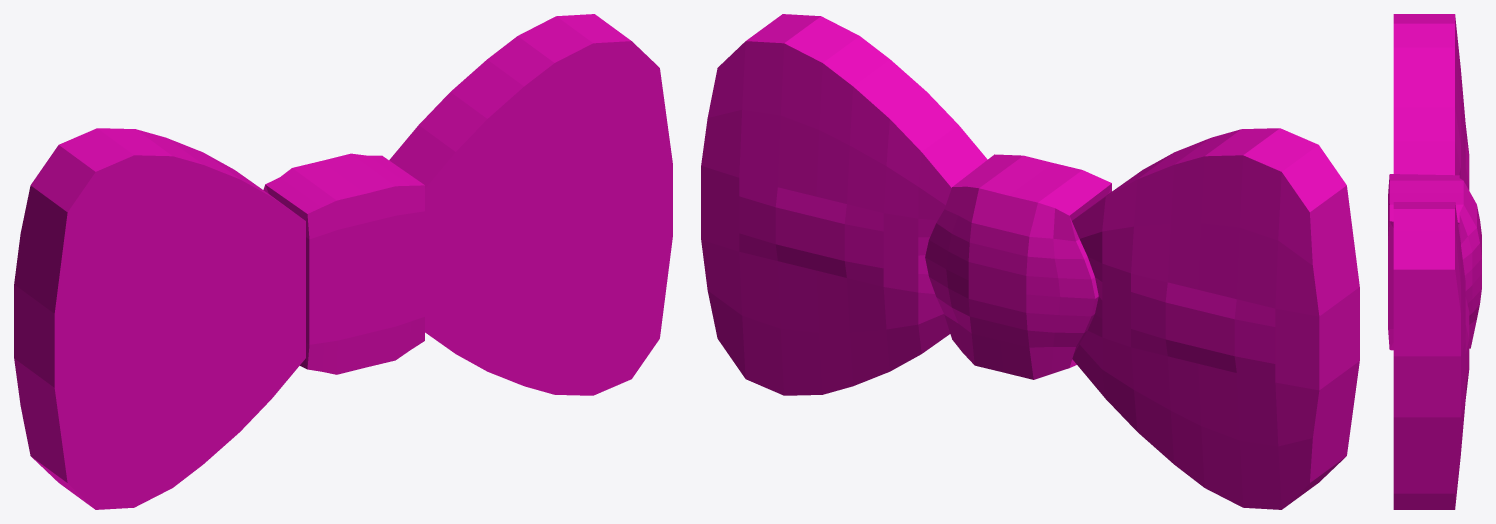
Rendered from Lazzo.fbx.
3 views of the same model, side by side, from view 1: azimuth 30°, elevation 25°; view 2: azimuth 150°, elevation 25°; view 3: azimuth 270°, elevation 25° (orthographic). The views are drawn at different scales.
Visible parts, largest first — view 1: Lazzo; view 2: Lazzo; view 3: Lazzo.
Part boxes in pixels (<box>): Lazzo: <box>14,14,672,509</box>; Lazzo: <box>701,14,1359,509</box>; Lazzo: <box>1388,14,1481,509</box>.
Size of the model in its own units: 0.0889 by 0.0141 by 0.0485.
